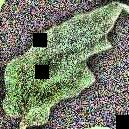HEALTHY: (0, 1, 129, 129)
